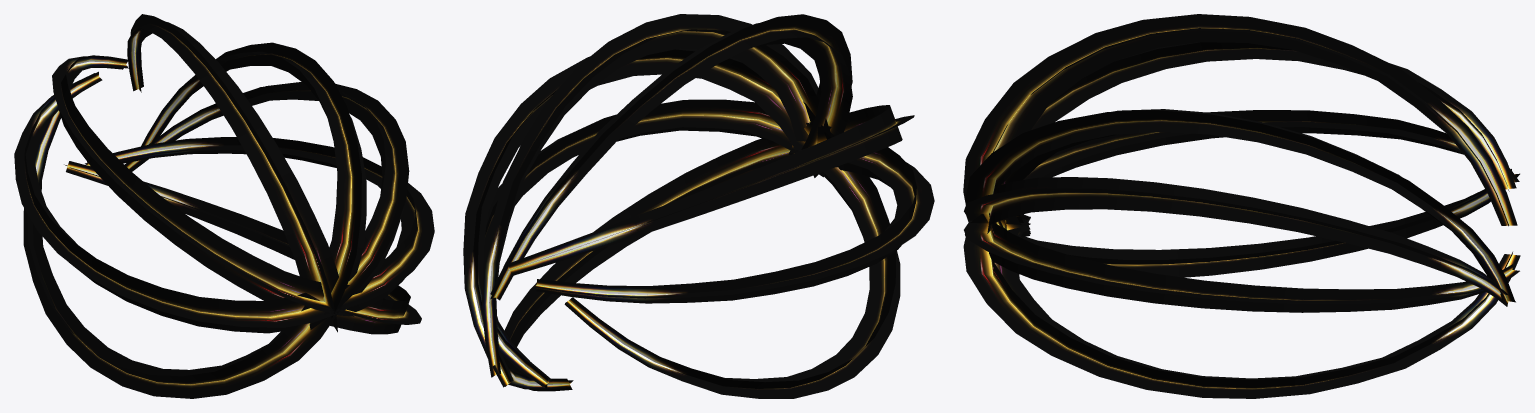
Rendered from donghua #4902066.fbx.
3 renders of one model, left to right at view 1: azimuth 30°, elevation 25°; view 2: azimuth 150°, elevation 25°; view 3: azimuth 270°, elevation 25°, orthographic. The views are drawn at different scales.
Visible parts, largest first — view 1: trail_01, trail_05, trail_02, trail_08, trail_04, trail_06, trail_03, trail_07; view 2: trail_04, trail_08, trail_01, trail_05, trail_06, trail_02, trail_03, trail_07; view 3: trail_08, trail_07, trail_06, trail_03, trail_04, trail_01, trail_02, trail_05.
Part boxes in pixels (bbox=[...]): trail_01: bbox=[23, 110, 349, 398]; trail_05: bbox=[14, 71, 348, 333]; trail_02: bbox=[52, 55, 354, 316]; trail_08: bbox=[127, 14, 338, 332]; trail_04: bbox=[141, 42, 366, 318]; trail_06: bbox=[124, 82, 409, 329]; trail_03: bbox=[85, 137, 434, 314]; trail_07: bbox=[64, 161, 421, 334]; trail_04: bbox=[481, 14, 831, 377]; trail_08: bbox=[490, 14, 852, 300]; trail_01: bbox=[564, 119, 900, 398]; trail_05: bbox=[533, 122, 934, 303]; trail_06: bbox=[463, 48, 826, 387]; trail_02: bbox=[508, 105, 914, 275]; trail_03: bbox=[482, 99, 831, 388]; trail_07: bbox=[502, 126, 839, 391]; trail_08: bbox=[963, 14, 1517, 237]; trail_07: bbox=[963, 214, 1520, 398]; trail_06: bbox=[964, 177, 1515, 306]; trail_03: bbox=[964, 222, 1519, 312]; trail_04: bbox=[965, 109, 1515, 305]; trail_01: bbox=[965, 169, 1519, 277]; trail_02: bbox=[968, 42, 1516, 234]; trail_05: bbox=[966, 110, 1519, 230].
Size of the model in its own units: 4.23 by 3.46 by 5.65.
